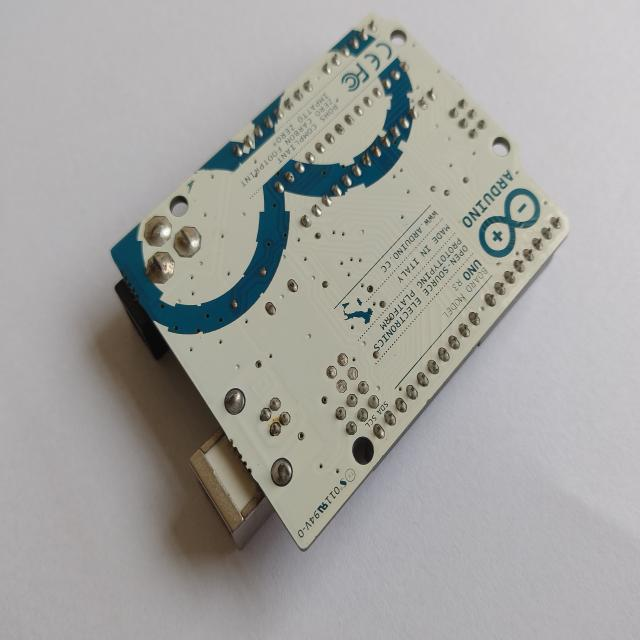arduino: (110, 8, 576, 586)
